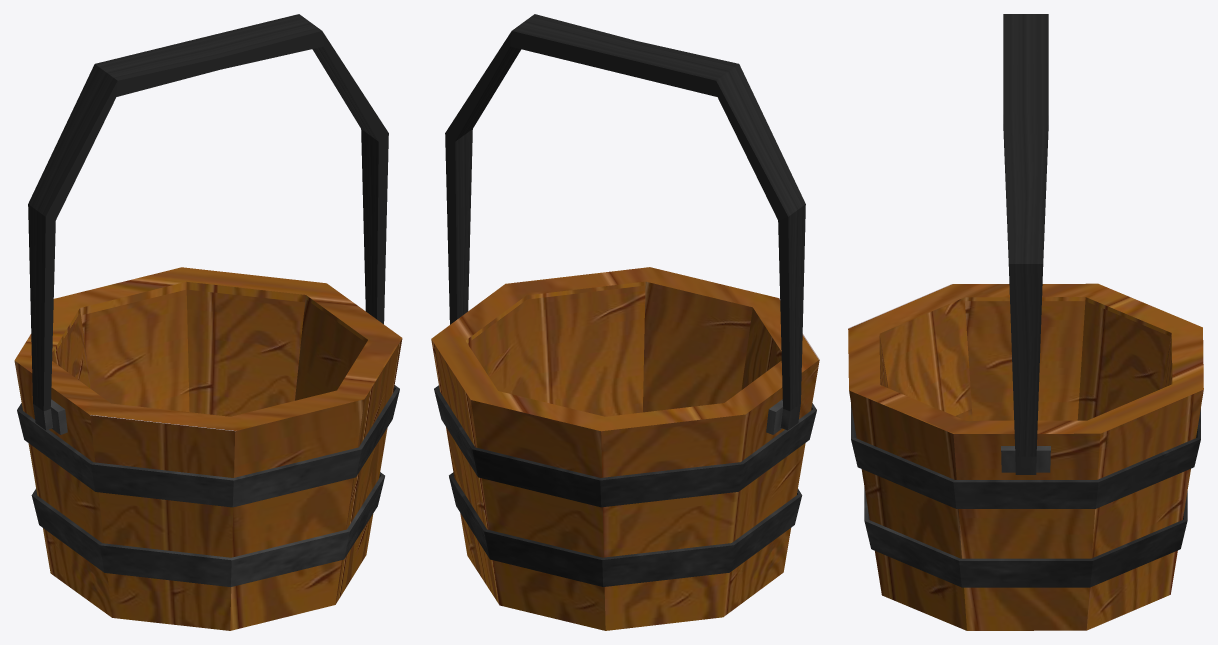
The model's file is Mine_Bucket.fbx.
3 renders of one model, left to right at view 1: azimuth 30°, elevation 25°; view 2: azimuth 150°, elevation 25°; view 3: azimuth 270°, elevation 25°, orthographic.
Visible parts, largest first — view 1: Bucket; view 2: Bucket; view 3: Bucket.
Part boxes in pixels (bbox=[...]): Bucket: bbox=[14, 14, 402, 630]; Bucket: bbox=[431, 14, 819, 630]; Bucket: bbox=[848, 14, 1203, 630].
Bounding box in the file's own units: 56.18 × 80.84 × 51.42.
